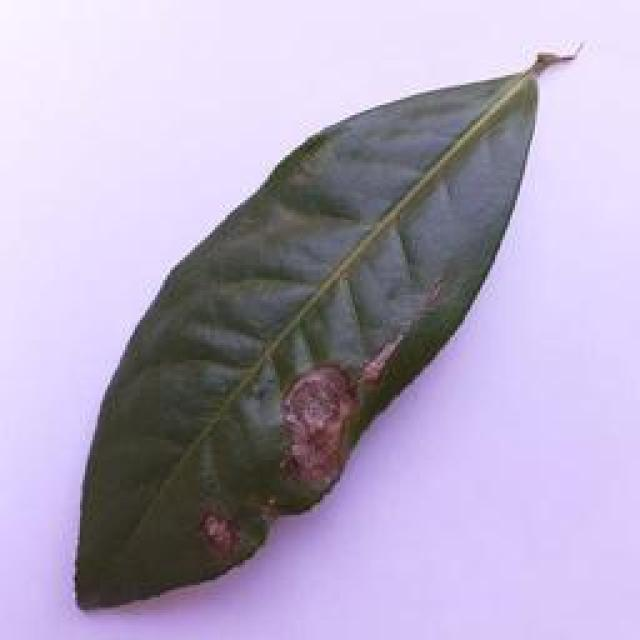Gray Blight: (69, 42, 572, 607)
